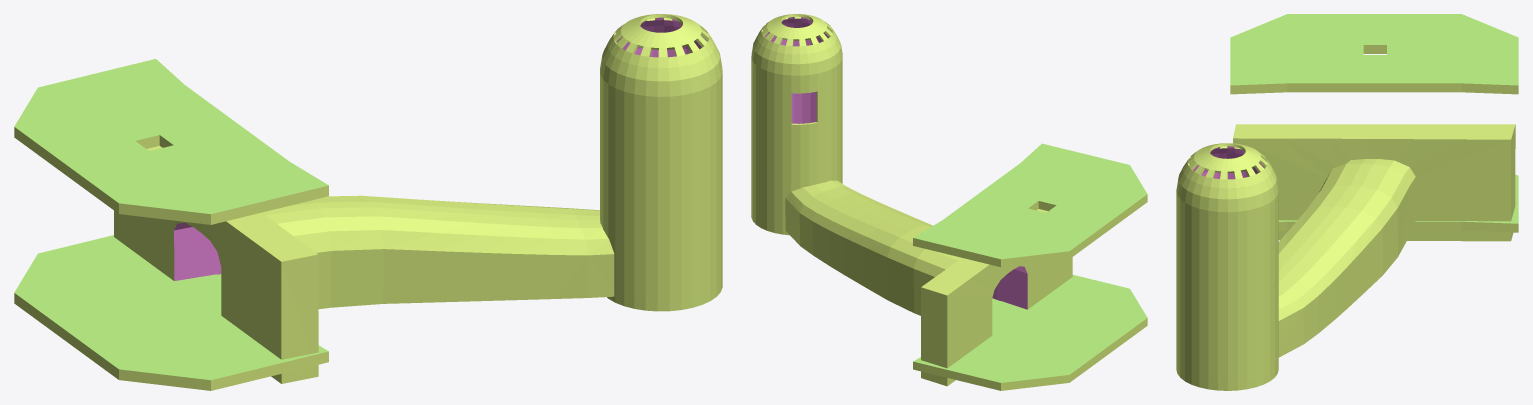
The picture shows the model from 3 angles, left to right: view 1: azimuth 30°, elevation 25°; view 2: azimuth 150°, elevation 25°; view 3: azimuth 270°, elevation 25°; orthographic projection. The views are drawn at different scales.
Parts seen in each view (by area): view 1: F1; view 2: F1; view 3: F1.
Boxes of the visible parts, x1,y1,x2,y2 form: F1: (14,14,722,390); F1: (751,14,1147,390); F1: (1176,14,1518,390).
Bounding box in the file's own units: 7843 × 3652 × 4988.
